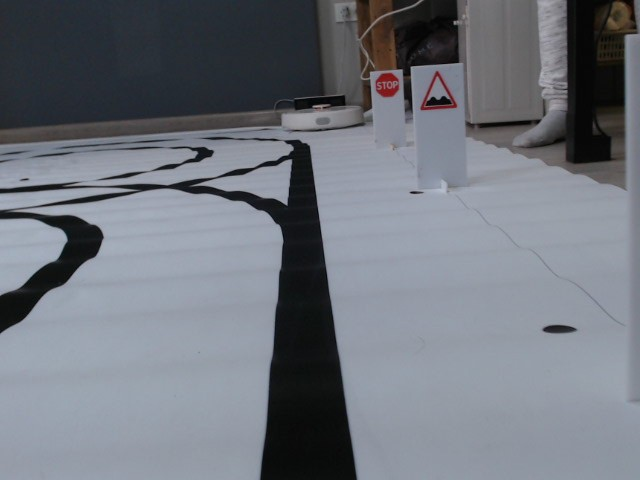Nerov: (420, 70, 458, 113)
